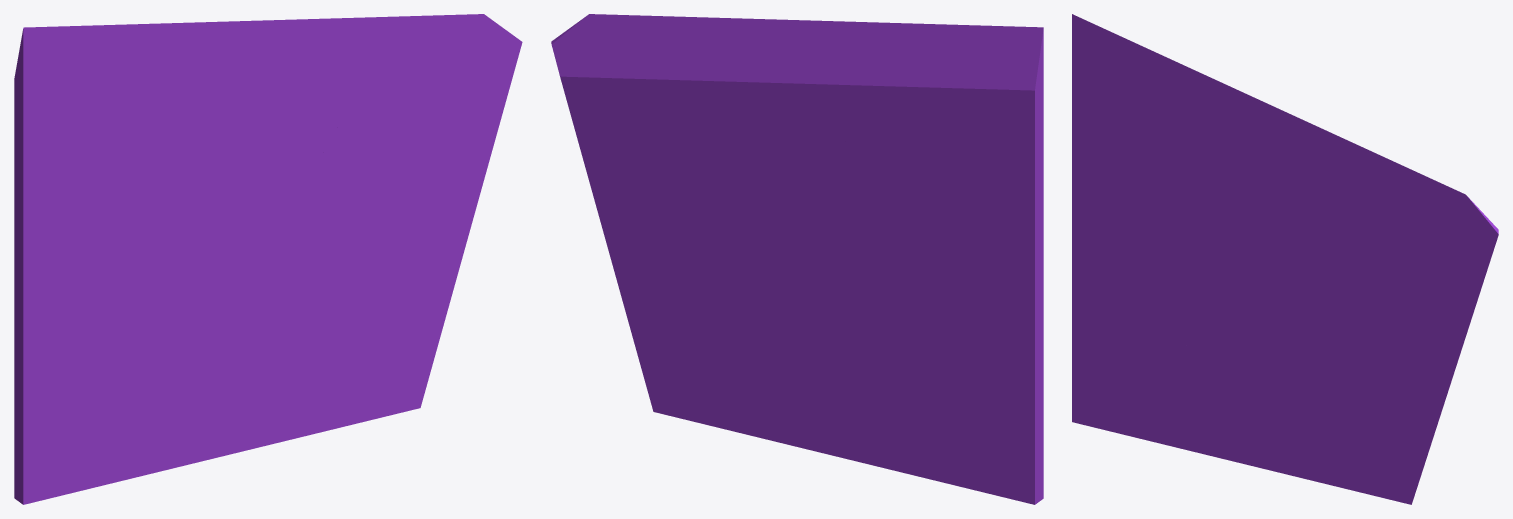
File: Glass_12_0_chunks.fbx
The picture shows the model from 3 angles, left to right: view 1: azimuth 30°, elevation 25°; view 2: azimuth 150°, elevation 25°; view 3: azimuth 330°, elevation 25°; orthographic projection. The views are drawn at different scales.
Visible parts, largest first — view 1: Glass_12_0_4, Glass_12_0_9, Glass_12_0_12, Glass_12_0_0, Glass_12_0_1, Glass_12_0_8, Glass_12_0_6, Glass_12_0_2, Glass_12_0_5, Glass_12_0_3, Glass_12_0_11, Glass_12_0_7; view 2: Glass_12_0_0, Glass_12_0_9, Glass_12_0_1, Glass_12_0_4, Glass_12_0_12, Glass_12_0_8, Glass_12_0_6, Glass_12_0_11, Glass_12_0_2, Glass_12_0_5, Glass_12_0_10; view 3: Glass_12_0_9, Glass_12_0_4, Glass_12_0_12, Glass_12_0_0, Glass_12_0_1, Glass_12_0_8, Glass_12_0_6, Glass_12_0_2, Glass_12_0_5, Glass_12_0_3, Glass_12_0_11, Glass_12_0_7.
Boxes of the visible parts, x1,y1,x2,y2 form: Glass_12_0_4: [14, 202, 189, 417]; Glass_12_0_9: [14, 24, 204, 206]; Glass_12_0_12: [123, 16, 397, 147]; Glass_12_0_0: [251, 232, 433, 448]; Glass_12_0_1: [14, 338, 221, 504]; Glass_12_0_8: [377, 14, 522, 169]; Glass_12_0_6: [333, 167, 486, 360]; Glass_12_0_2: [176, 204, 303, 366]; Glass_12_0_5: [294, 54, 402, 260]; Glass_12_0_3: [150, 312, 270, 456]; Glass_12_0_11: [179, 112, 345, 205]; Glass_12_0_7: [368, 154, 418, 216]; Glass_12_0_0: [631, 207, 839, 457]; Glass_12_0_9: [864, 24, 1043, 219]; Glass_12_0_1: [819, 318, 1043, 504]; Glass_12_0_4: [875, 200, 1043, 412]; Glass_12_0_12: [674, 16, 945, 144]; Glass_12_0_8: [551, 14, 684, 170]; Glass_12_0_6: [586, 168, 716, 332]; Glass_12_0_11: [705, 110, 889, 220]; Glass_12_0_2: [784, 219, 887, 369]; Glass_12_0_5: [654, 63, 757, 248]; Glass_12_0_10: [842, 91, 895, 163]; Glass_12_0_9: [1072, 14, 1226, 229]; Glass_12_0_4: [1072, 163, 1214, 347]; Glass_12_0_12: [1157, 53, 1391, 220]; Glass_12_0_0: [1267, 306, 1422, 504]; Glass_12_0_1: [1072, 333, 1241, 463]; Glass_12_0_8: [1374, 161, 1498, 328]; Glass_12_0_6: [1337, 299, 1468, 469]; Glass_12_0_2: [1202, 234, 1311, 407]; Glass_12_0_5: [1304, 185, 1396, 342]; Glass_12_0_3: [1181, 321, 1283, 469]; Glass_12_0_11: [1205, 192, 1347, 279]; Glass_12_0_7: [1366, 281, 1409, 319].
Size of the model in its own units: 872 by 797 by 27.2.
